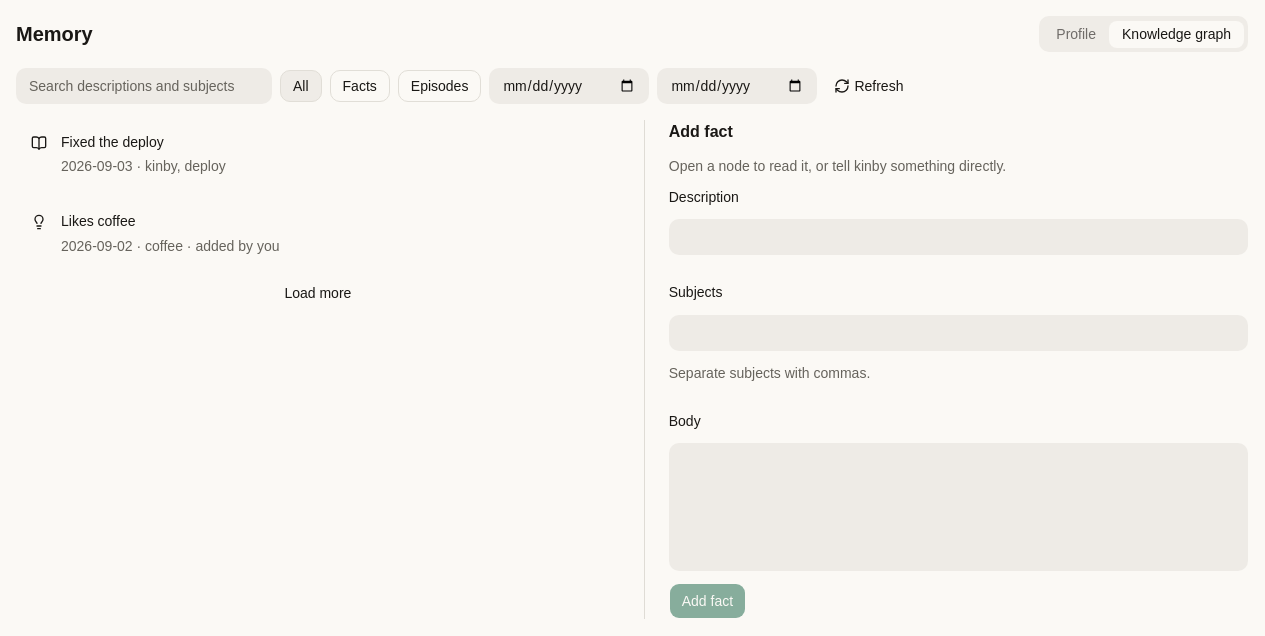
the memory page › loads the next page below the last node shown, and stops on the last page
What coordinates should you click on to do the following:
click the button "Load more"
I would click on:
 (318, 292)
Its box is [16,276,620,308].
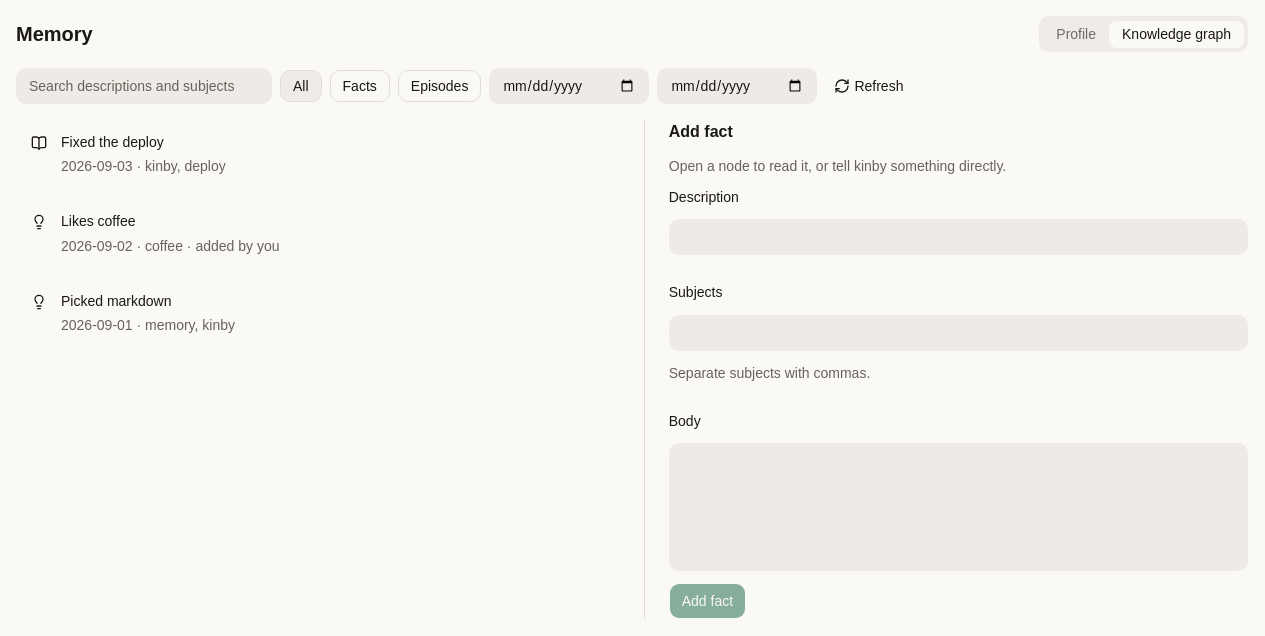
Expected: the button "Fixed the deploy 2026-09-03 · kinby, deploy" is shown, [16,120,620,189]
Result: the button "Picked markdown 2026-09-01 · memory, kinby" is shown at [16,278,620,348]
Result: the button "Load more" is gone
